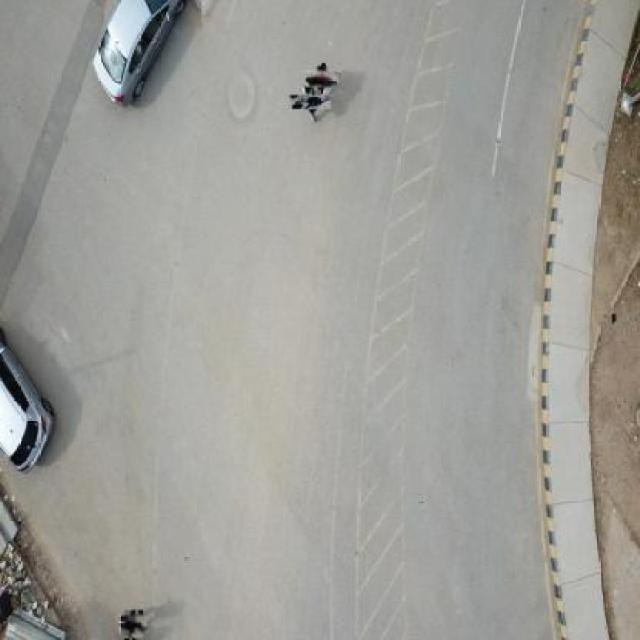Person: (296, 88, 326, 117), (310, 67, 338, 93), (122, 612, 146, 637)
